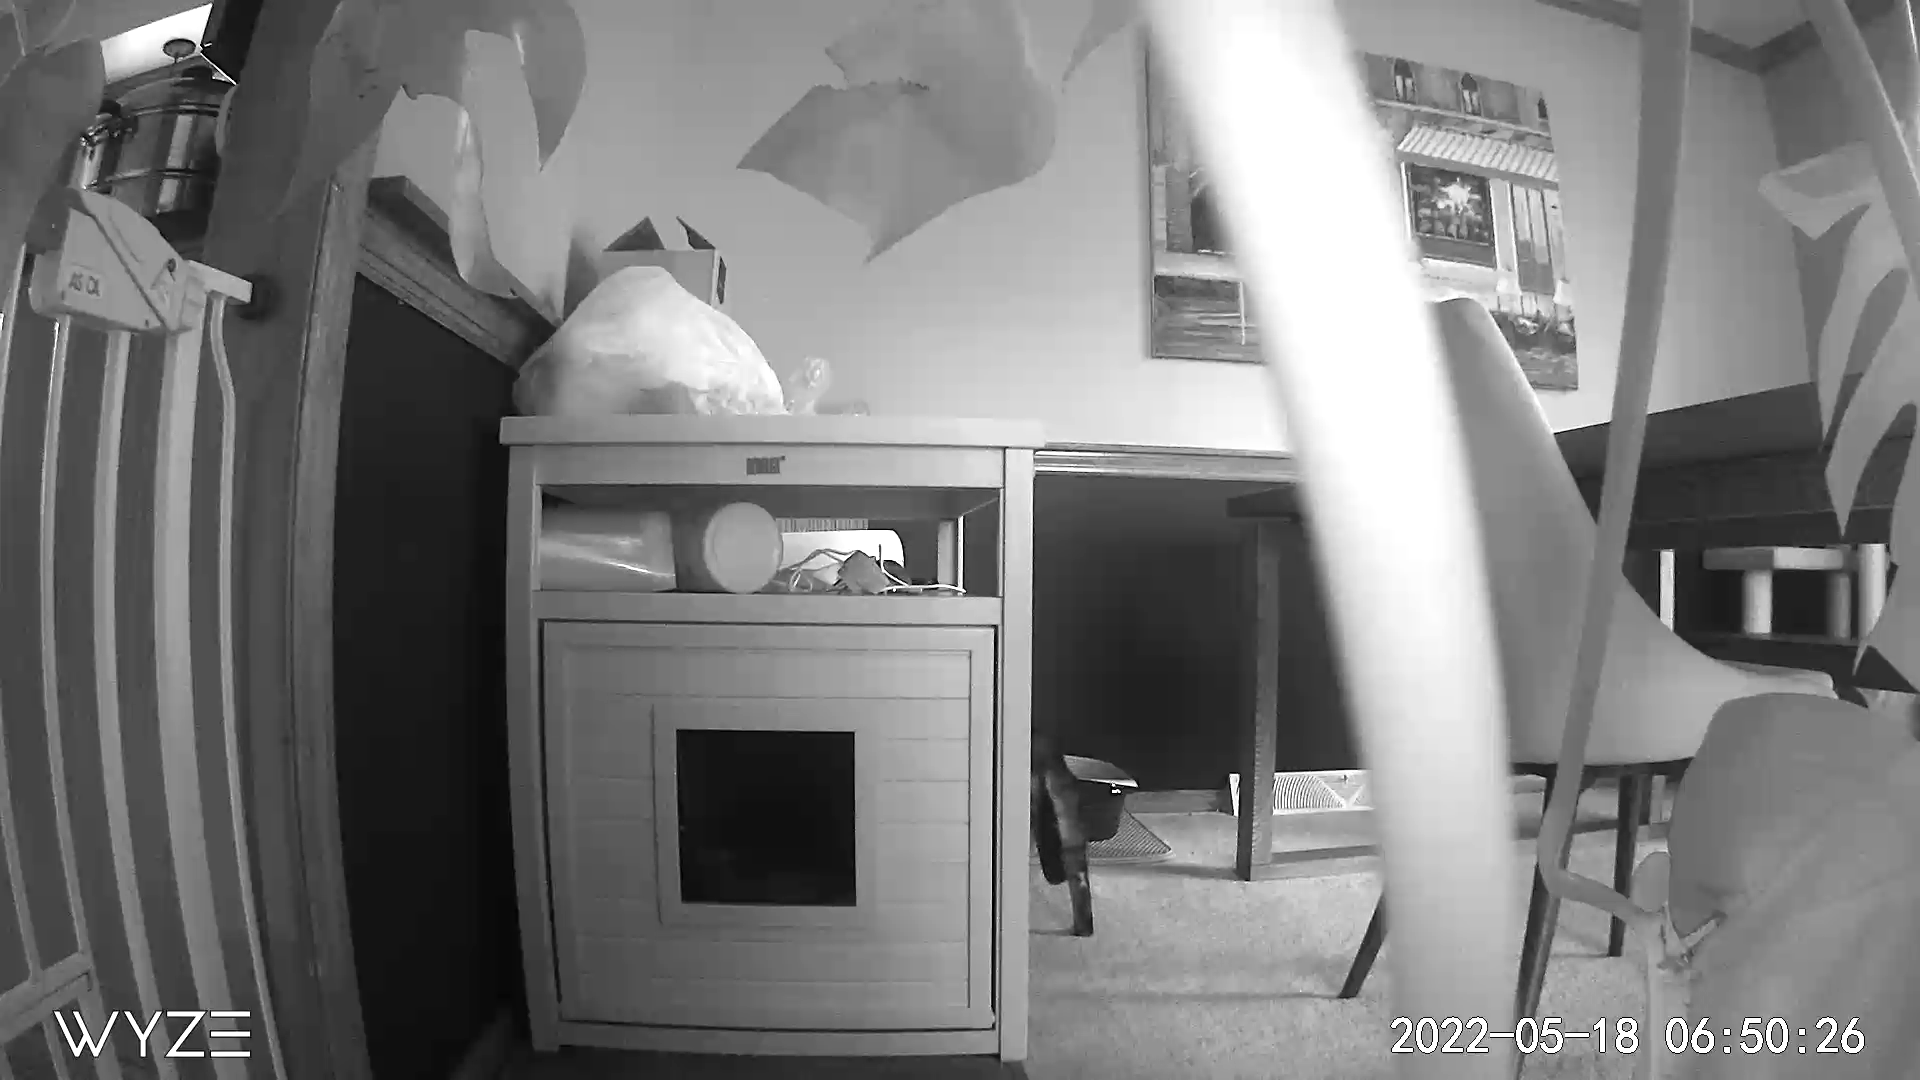sparky: (1031, 732, 1124, 944)
